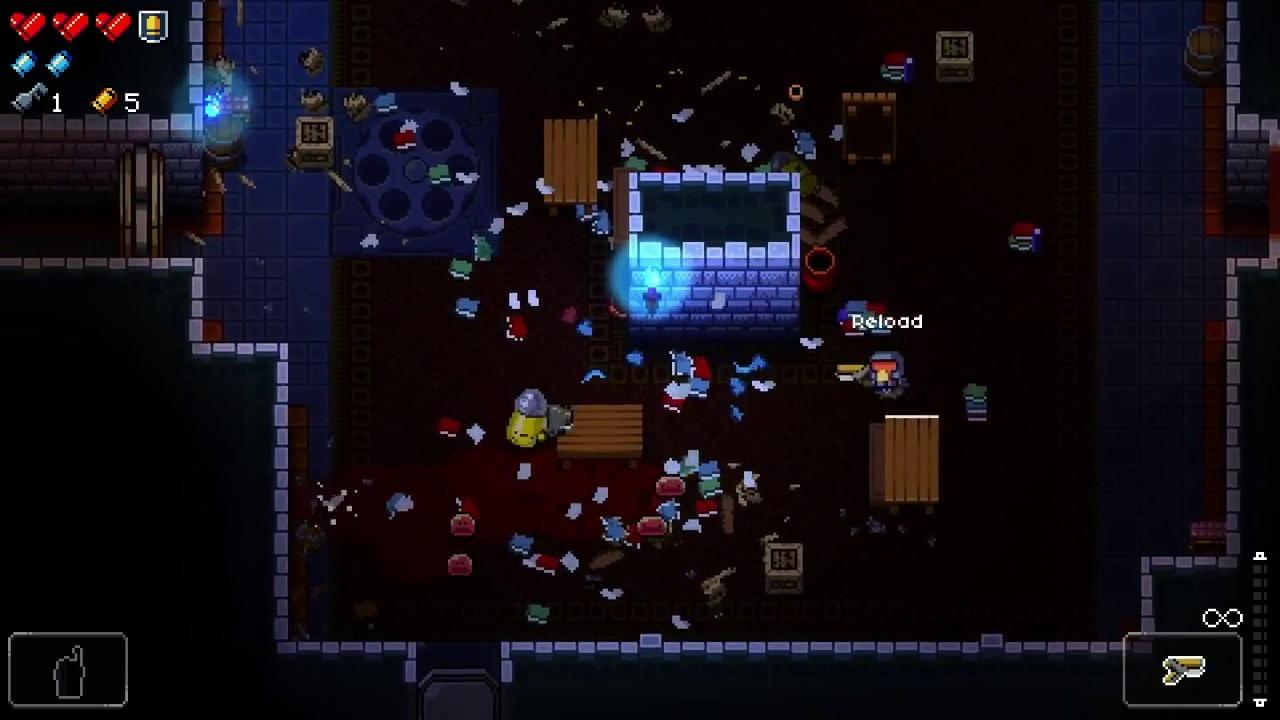blobulin_s: (448, 554, 474, 579), (654, 476, 685, 495), (639, 517, 667, 537), (451, 514, 476, 536)
bullet_kin: (505, 387, 549, 448)
locked_door: (119, 142, 163, 259), (418, 670, 499, 720)
player: (866, 352, 908, 401)
table: (558, 402, 642, 469), (544, 117, 598, 216), (886, 415, 939, 513), (842, 93, 897, 166)
teleporter: (333, 87, 501, 260)
